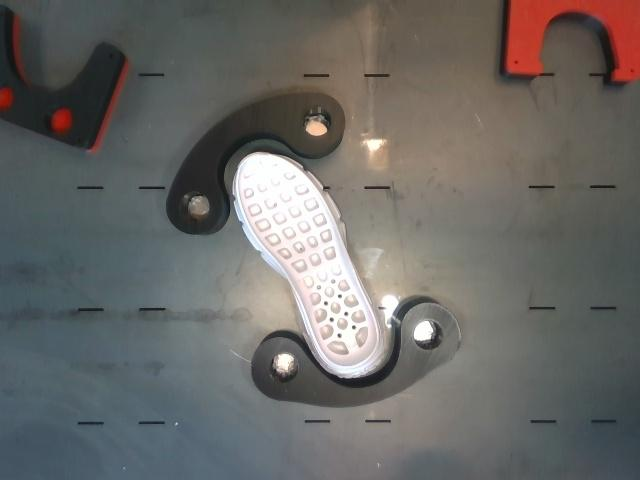shoes: (238, 153, 378, 367)
